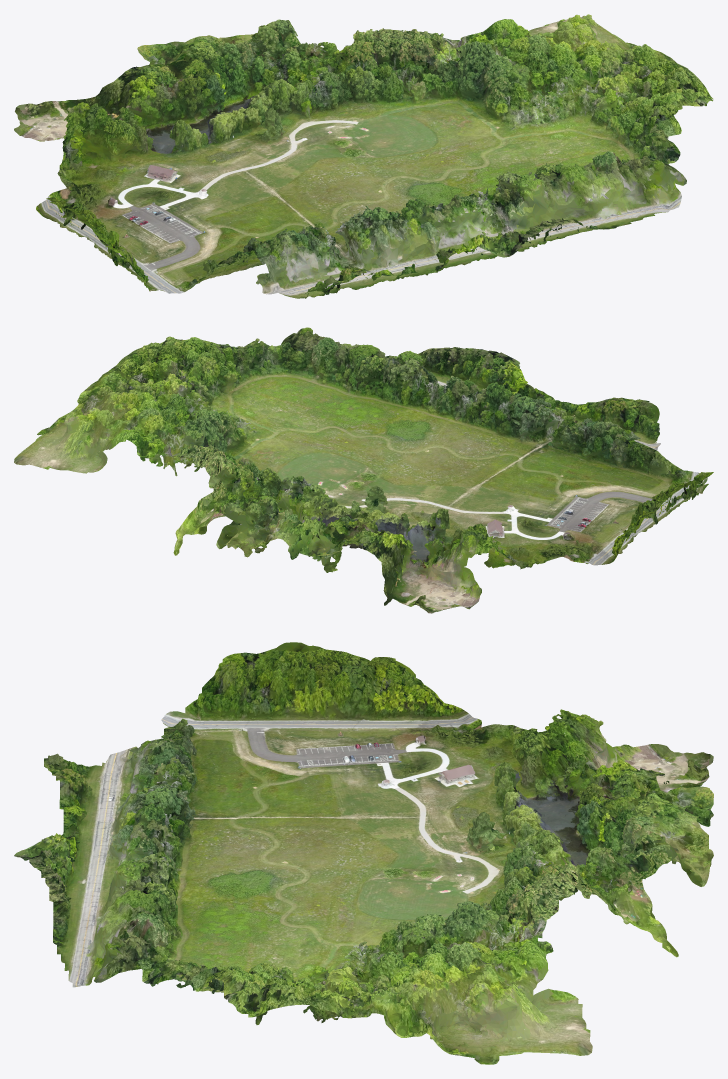
Rendered from poce-sur-cisse.glb.
The picture shows the model from 3 angles, top to bottom: view 1: azimuth 30°, elevation 25°; view 2: azimuth 150°, elevation 25°; view 3: azimuth 270°, elevation 25°; orthographic projection. The views are drawn at different scales.
Parts seen in each view (by area): view 1: z-up-to-y-up; view 2: z-up-to-y-up; view 3: z-up-to-y-up.
Part boxes in pixels (x1,y1,x2,y2): z-up-to-y-up: (14, 14, 713, 298); z-up-to-y-up: (14, 327, 713, 613); z-up-to-y-up: (14, 642, 713, 1064).
Bounding box in the file's own units: 388 × 48.06 × 307.
Materials: 108 (108 with a texture image).
